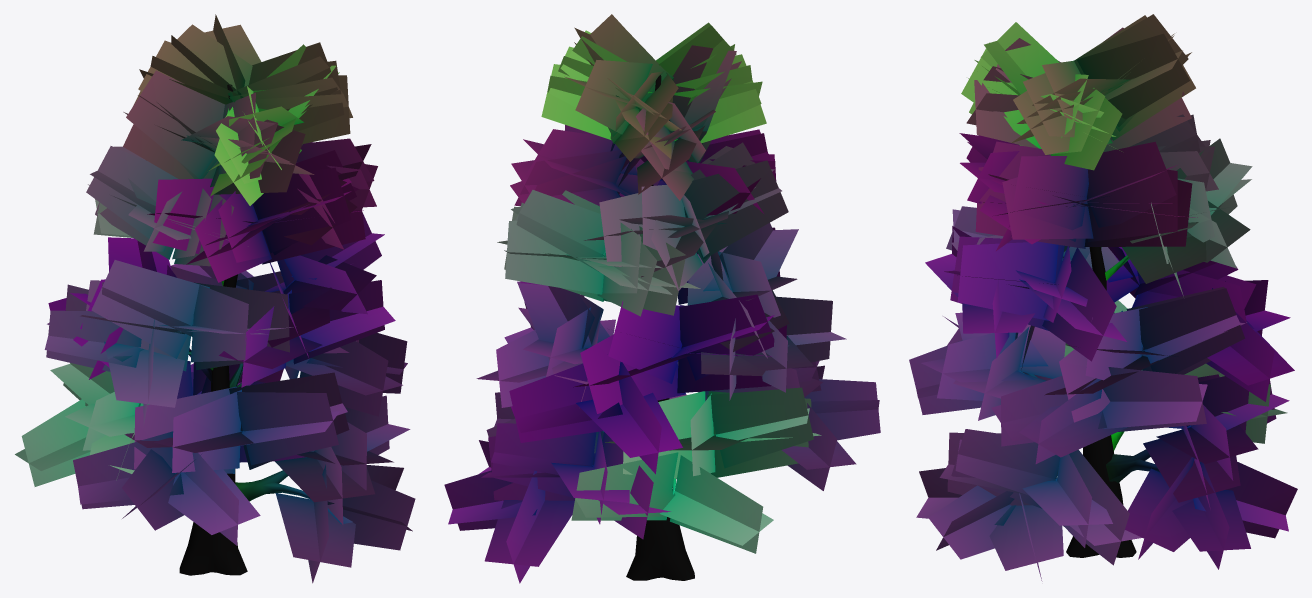
The model's file is Tree_4_3.fbx.
The picture shows the model from 3 angles, left to right: view 1: azimuth 30°, elevation 25°; view 2: azimuth 150°, elevation 25°; view 3: azimuth 270°, elevation 25°; orthographic projection.
Parts seen in each view (by area): view 1: _3; view 2: _3; view 3: _3.
Part boxes in pixels (box(x1,y1,x2,y2)): _3: box(15, 14, 415, 583); _3: box(444, 14, 880, 583); _3: box(909, 14, 1297, 581).
Bounding box in the file's own units: 1781 × 2601 × 1729.
